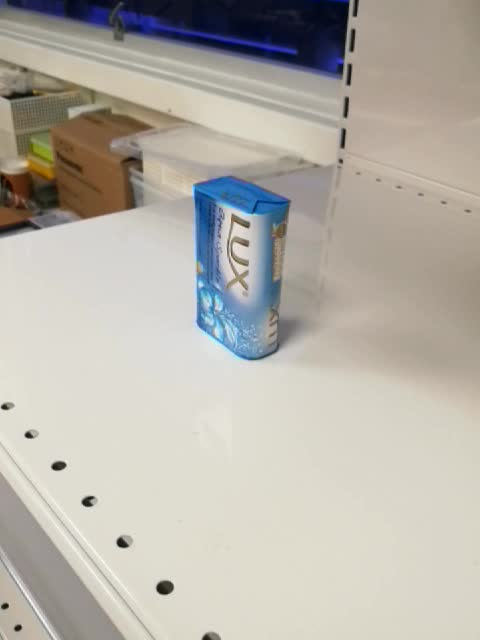soap: (191, 175, 293, 365)
